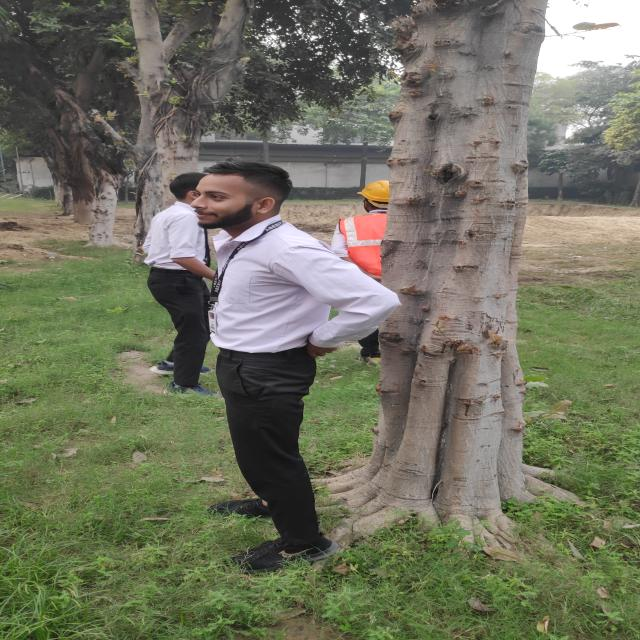safe: (331, 168, 385, 370)
unsafe: (190, 161, 350, 574), (162, 168, 212, 397)
